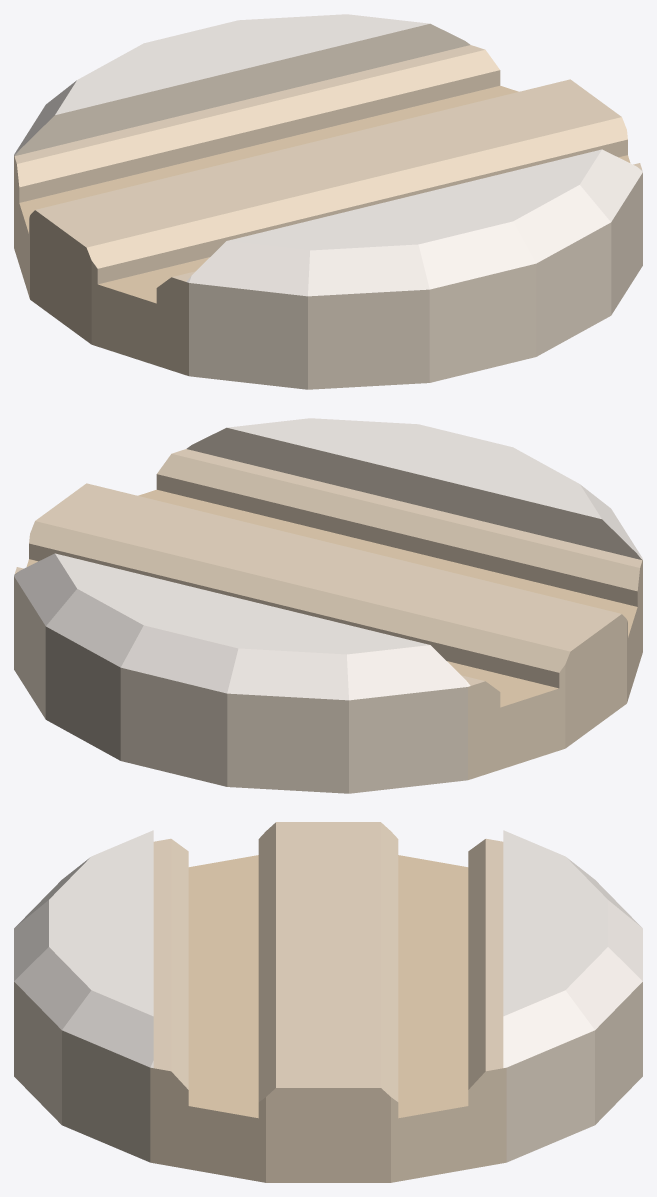
The model's file is Puzzle_Track_Rotating_Platform_Straight.glb.
The picture shows the model from 3 angles, top to bottom: view 1: azimuth 30°, elevation 25°; view 2: azimuth 150°, elevation 25°; view 3: azimuth 270°, elevation 25°; orthographic projection.
Parts seen in each view (by area): view 1: Puzzle_Track_Rotating_Platform_Straight; view 2: Puzzle_Track_Rotating_Platform_Straight; view 3: Puzzle_Track_Rotating_Platform_Straight.
Part boxes in pixels (bbox=[...]): Puzzle_Track_Rotating_Platform_Straight: bbox=[14, 14, 642, 389]; Puzzle_Track_Rotating_Platform_Straight: bbox=[14, 418, 642, 793]; Puzzle_Track_Rotating_Platform_Straight: bbox=[14, 822, 642, 1182].
Size of the model in its own units: 0.9 by 0.2 by 0.9.
